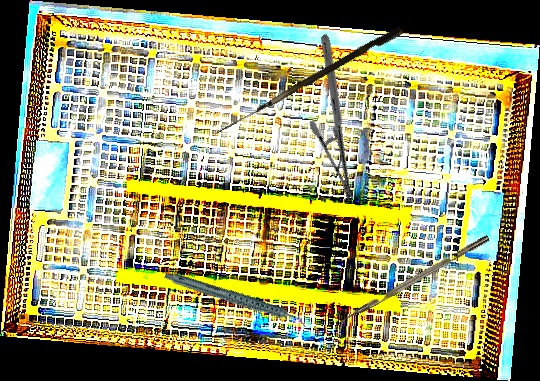Chopper: (332, 234, 495, 334)
Handpiece: (163, 244, 309, 356)
Hook Surgical: (214, 22, 404, 144)
Needle Holder: (258, 33, 417, 202)
